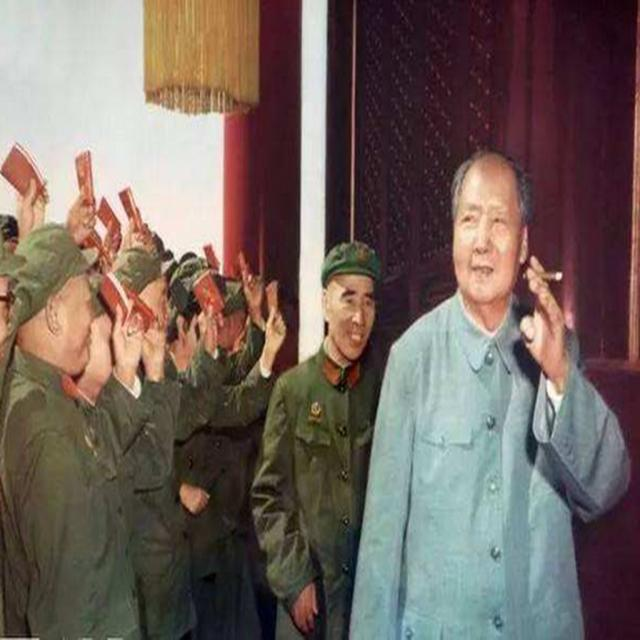smoking: (446, 148, 566, 326)
